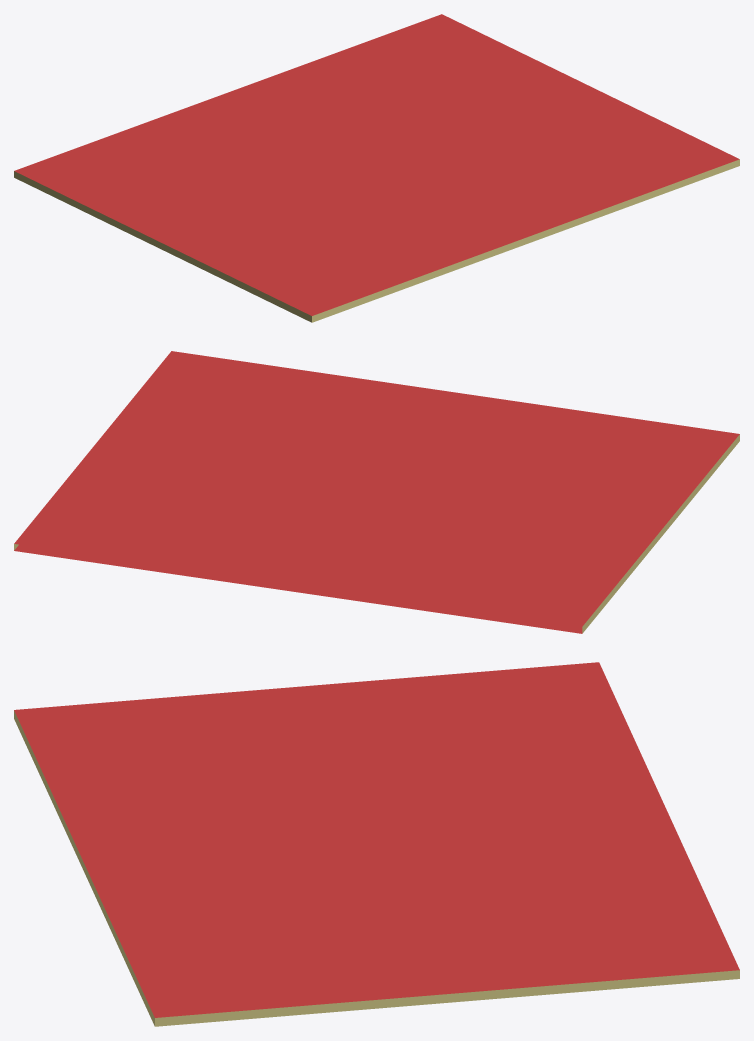
3 renders of one model, top to bottom at view 1: azimuth 30°, elevation 25°; view 2: azimuth 150°, elevation 25°; view 3: azimuth 270°, elevation 25°, orthographic. The views are drawn at different scales.
Size of the model in its own units: 8.7 by 7.5 by 0.1.
